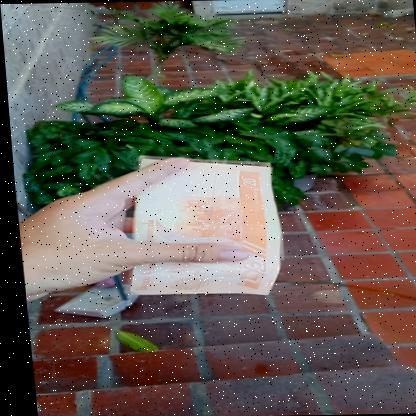twenty-back-vef: (113, 154, 281, 298)
